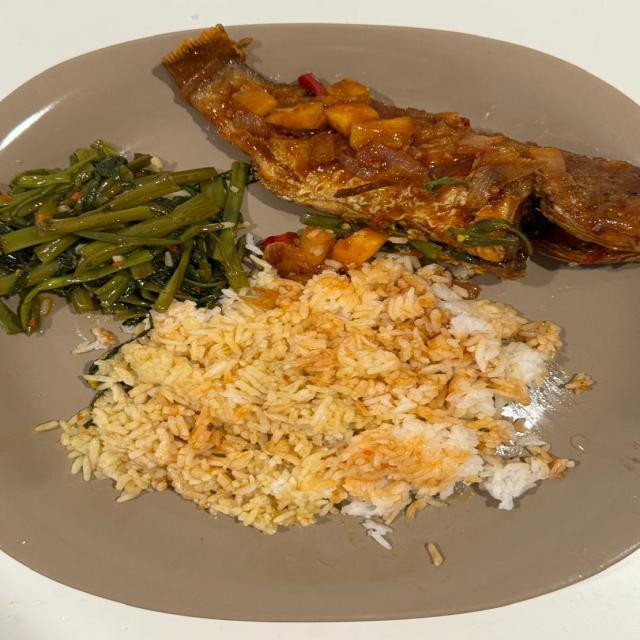Fish: (148, 21, 639, 279)
Plate: (0, 268, 639, 619)
Rice: (44, 248, 575, 556)
Vegetables: (0, 138, 264, 341)
